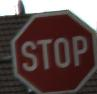Stop sign: (0, 0, 96, 93)
